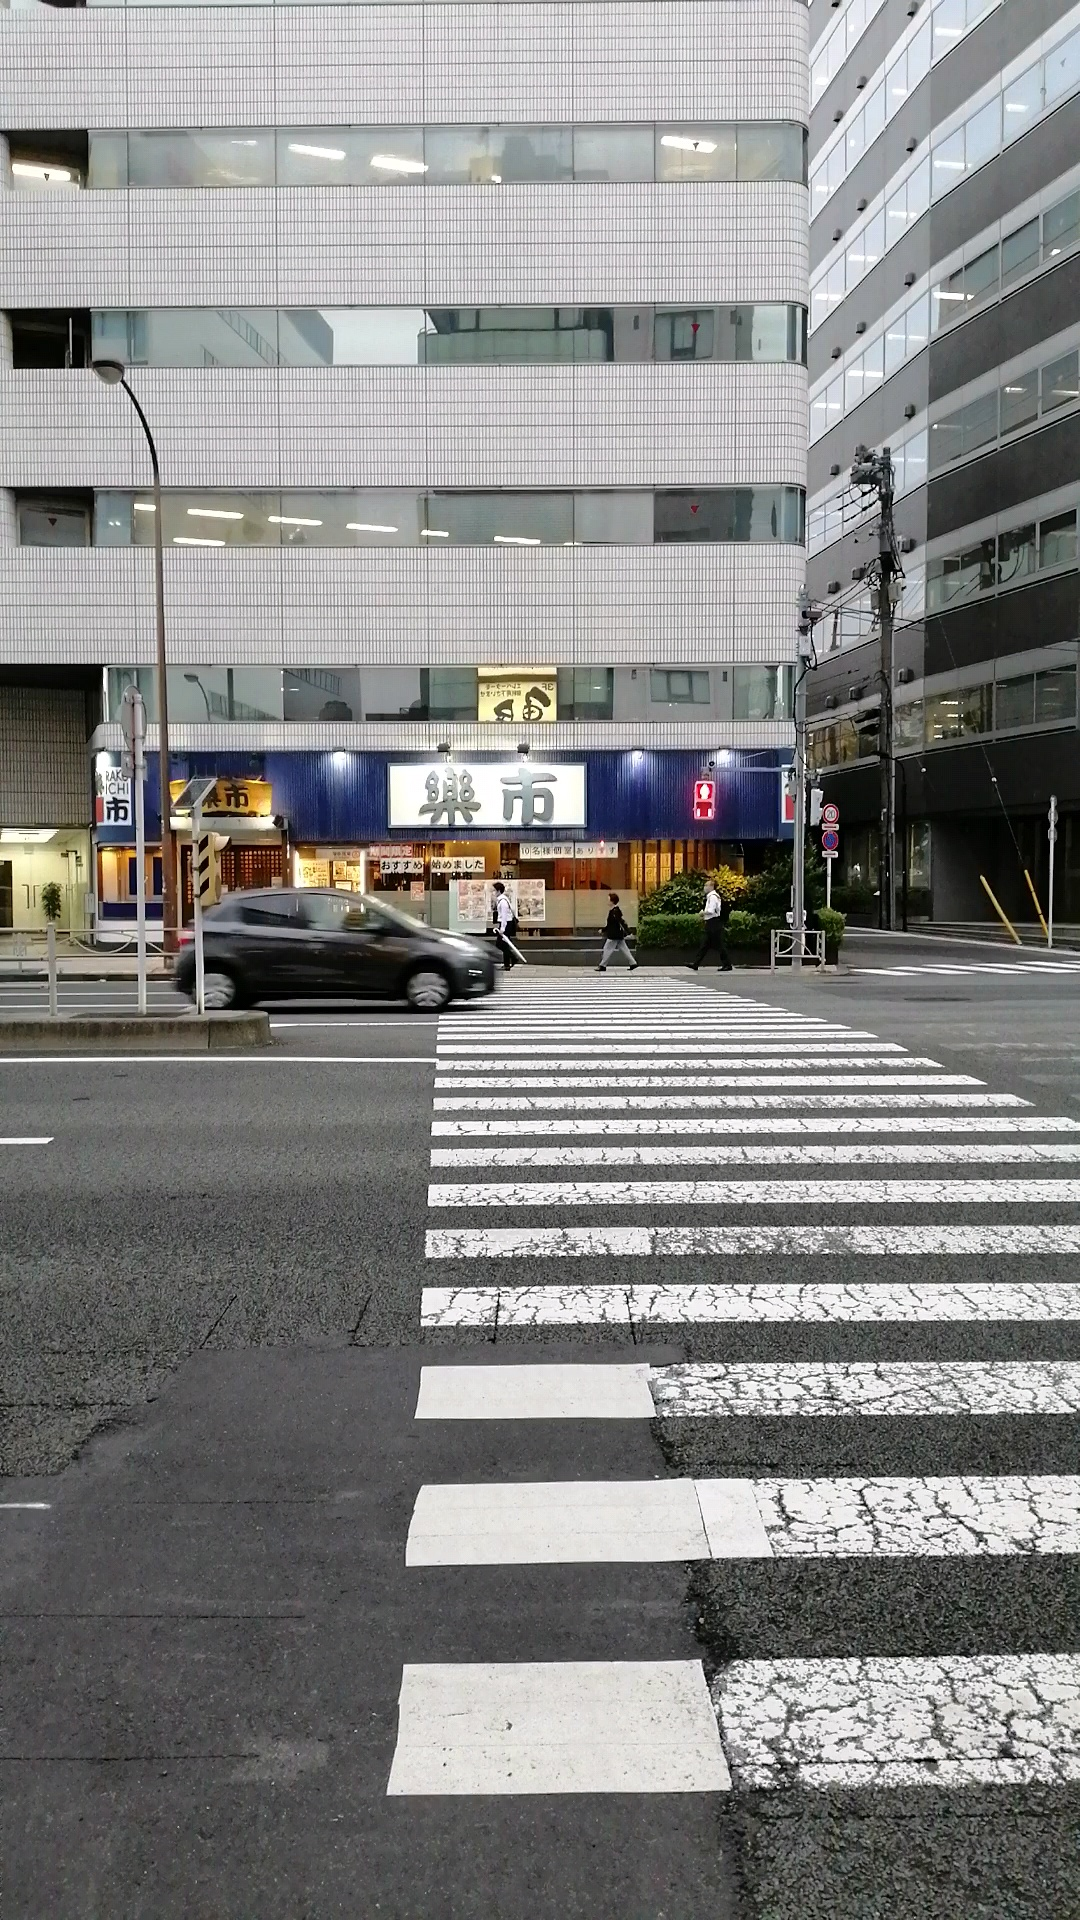red: (694, 781, 713, 820)
